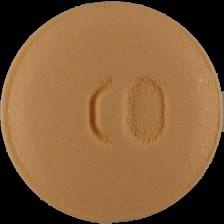10544-847: (0, 0, 224, 224)
